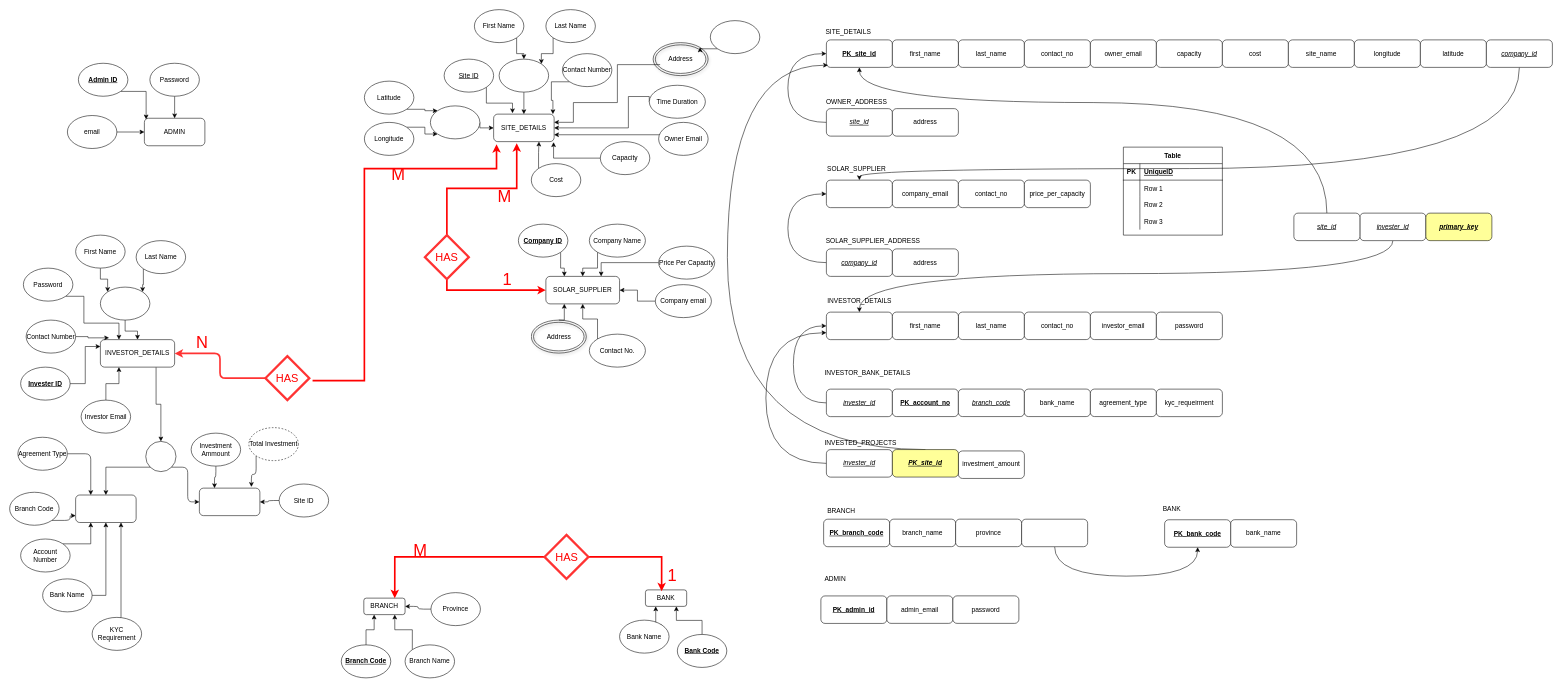
The diagram is 1562 pixels wide and 688 high, and some of its shapes have lost their labels. The centre of each missing label's shape, as x and y in pixels:
bank_code: point 1054,533
INVESTED PROJECTS: point 229,502
Investor Name: point 125,303
INVESTOR_BANK DETAILS: point 105,508
Overlap: point 160,456
Owner Name: point 524,75
PK_company_id: point 859,194
PK_invester_id: point 859,326
Postal Code: point 735,37
Site Name: point 455,122
